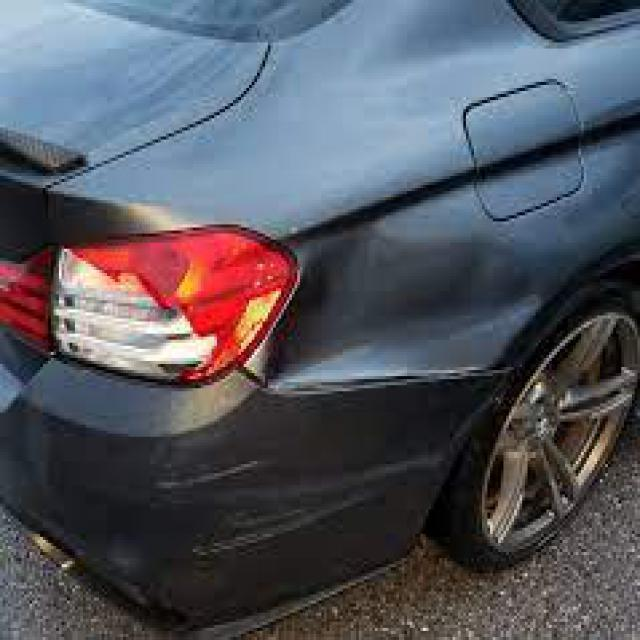Taillight-Damage: (0, 209, 322, 383)
quaterpanel-dent: (348, 55, 637, 376)
rear-bumper-dent: (0, 358, 476, 625)
